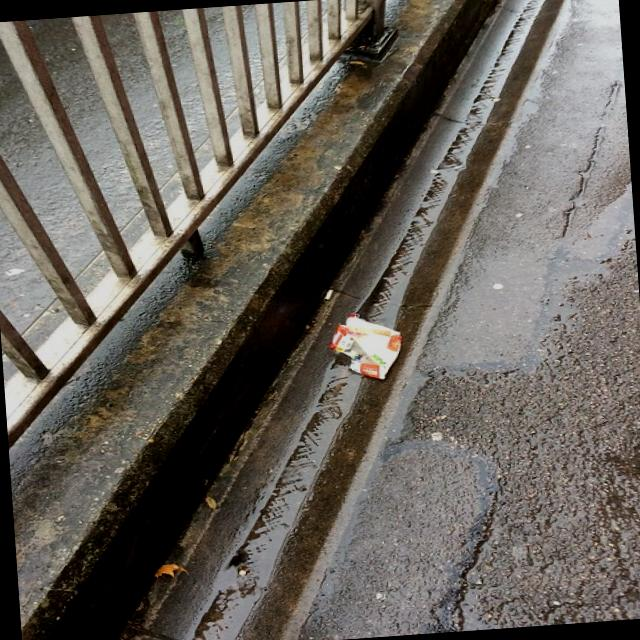Trash: (328, 308, 407, 383)
